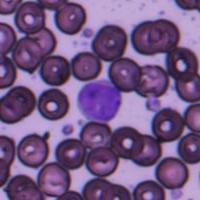L: (77, 79, 122, 123)
